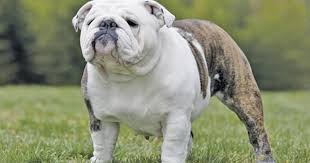Bulldog: (63, 1, 281, 163)
